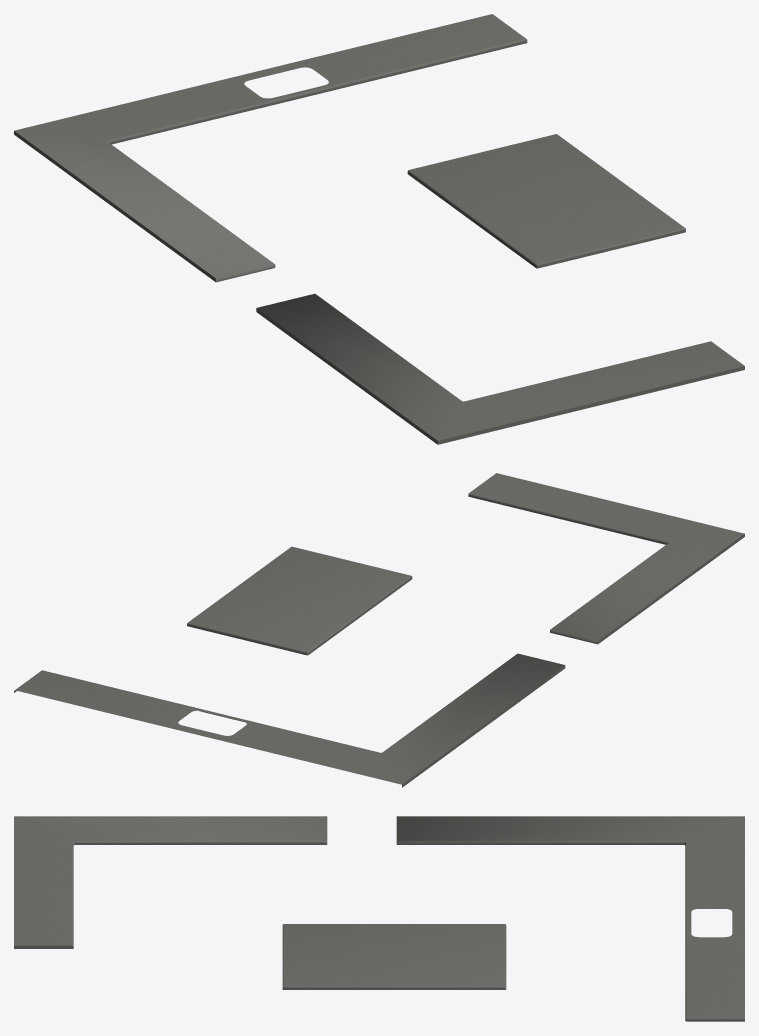
Rendered from 2345_kitchen_Countertops_QuartzExpoGray.gltf.
3 views of the same model, one above another, from view 1: azimuth 30°, elevation 25°; view 2: azimuth 150°, elevation 25°; view 3: azimuth 270°, elevation 25° (orthographic). The views are drawn at different scales.
Parts seen in each view (by area): view 1: Countertops_Quartz Expo Gray; view 2: Countertops_Quartz Expo Gray; view 3: Countertops_Quartz Expo Gray.
Part boxes in pixels (x1,y1,x2,y2): Countertops_Quartz Expo Gray: (14, 14, 744, 444); Countertops_Quartz Expo Gray: (14, 473, 744, 787); Countertops_Quartz Expo Gray: (14, 816, 744, 1021).
Size of the model in its own units: 6.4 by 0.05 by 9.8.
1 material, 1 textured.
